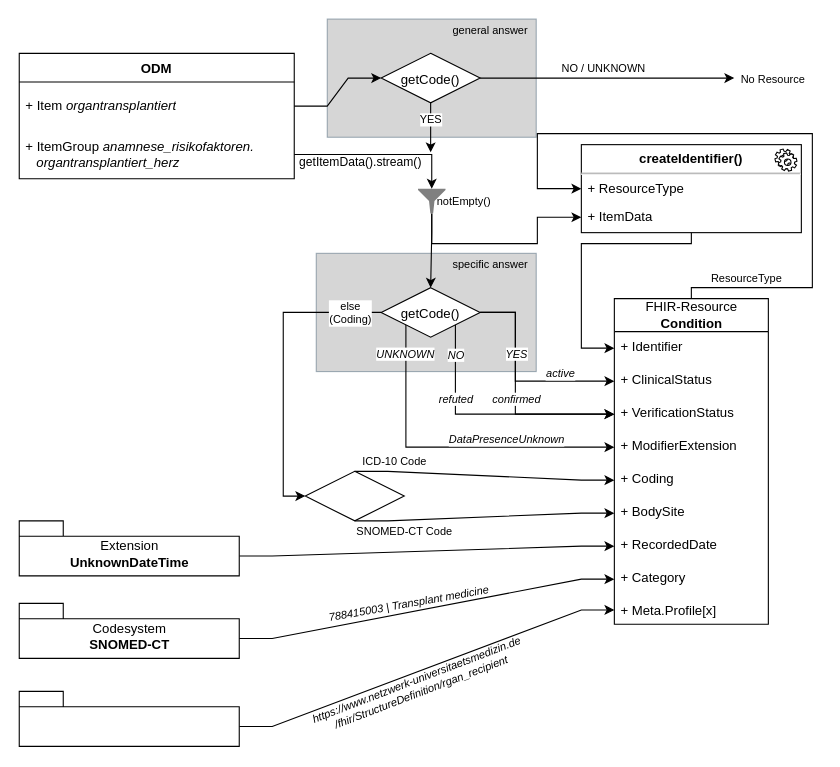
Image size: 840x767. Some labels were removed from this diagram. The centre of each missing label's shape, as x and y in pixels:
Code. getSystem(): the point at 354,495
GECCO Profiles: the point at 128,718
